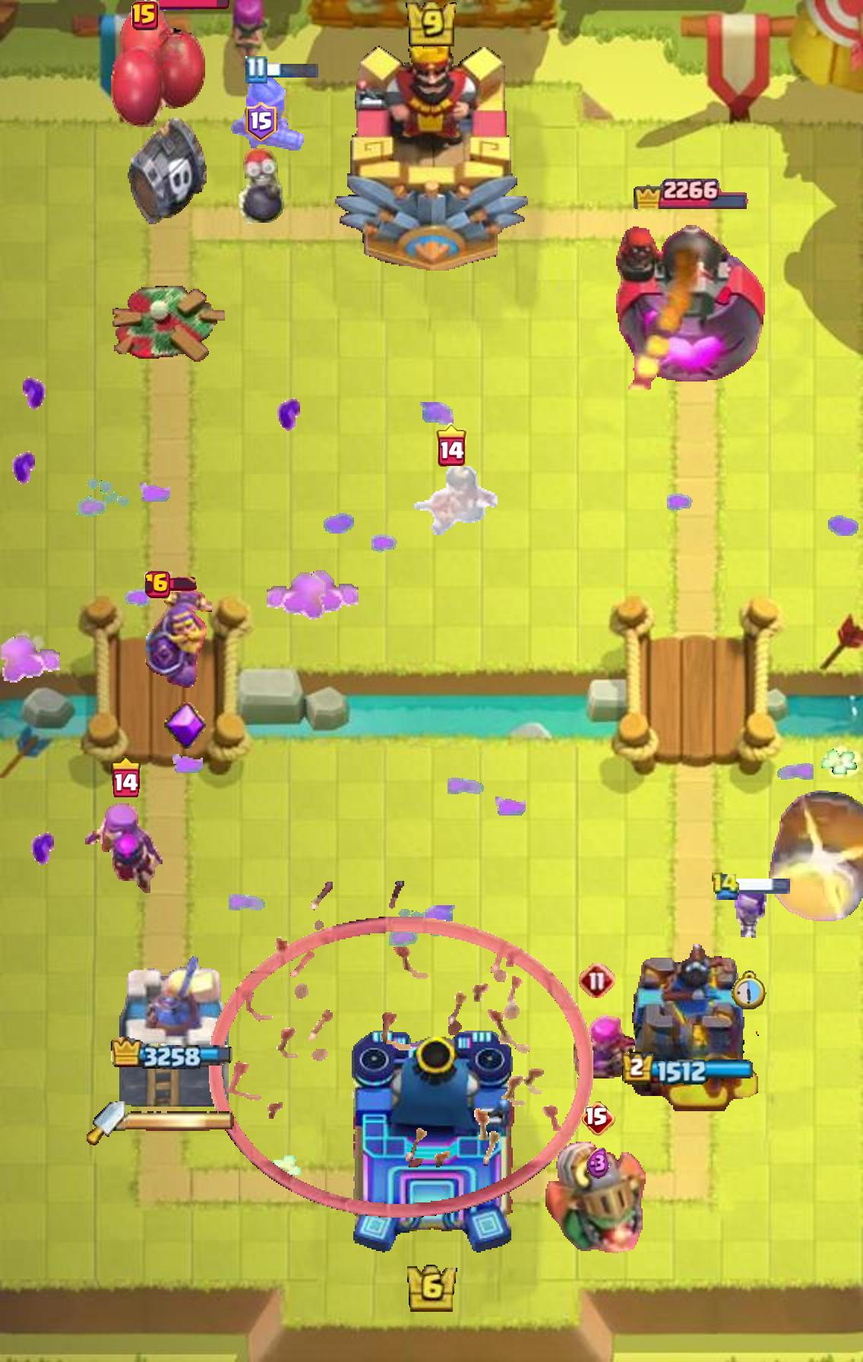elixir: (587, 1148, 610, 1180)
musketeer: (229, 65, 320, 156)
skeleton-evolution: (726, 883, 773, 938)
